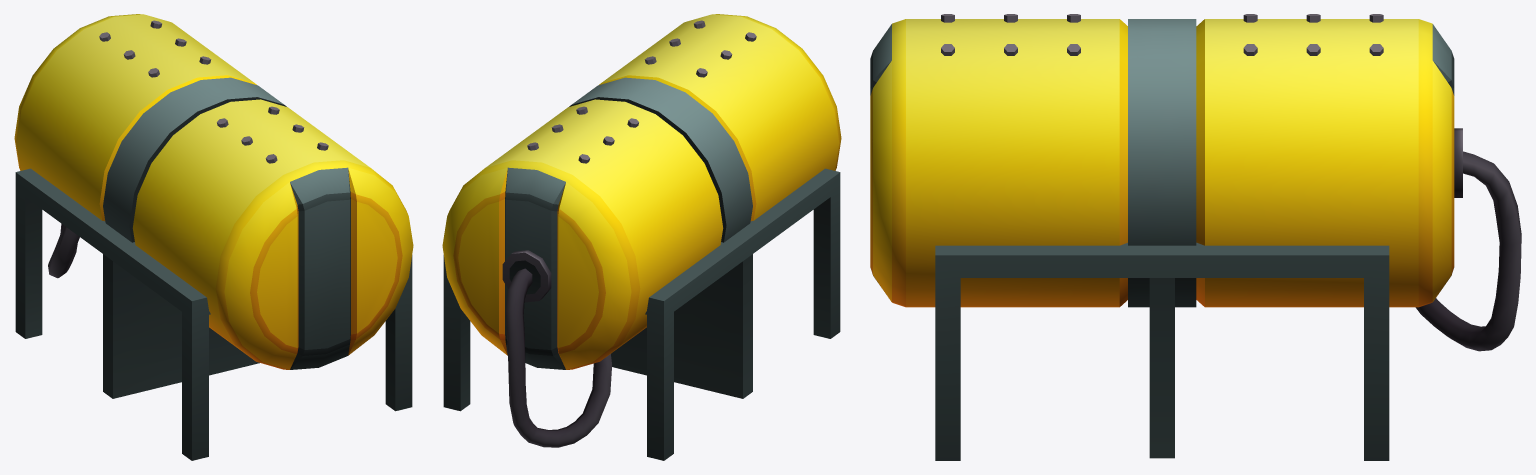
The model's file is Gas_Tank_1A.fbx.
3 views of the same model, side by side, from view 1: azimuth 30°, elevation 25°; view 2: azimuth 150°, elevation 25°; view 3: azimuth 270°, elevation 25° (orthographic). The views are drawn at different scales.
Parts seen in each view (by area): view 1: Gas_Tank_1A; view 2: Gas_Tank_1A; view 3: Gas_Tank_1A.
Part boxes in pixels (x1,y1,x2,y2): Gas_Tank_1A: (14, 14, 413, 460); Gas_Tank_1A: (442, 14, 841, 460); Gas_Tank_1A: (870, 14, 1521, 460).
Bounding box in the file's own units: 260 × 316 × 517.
